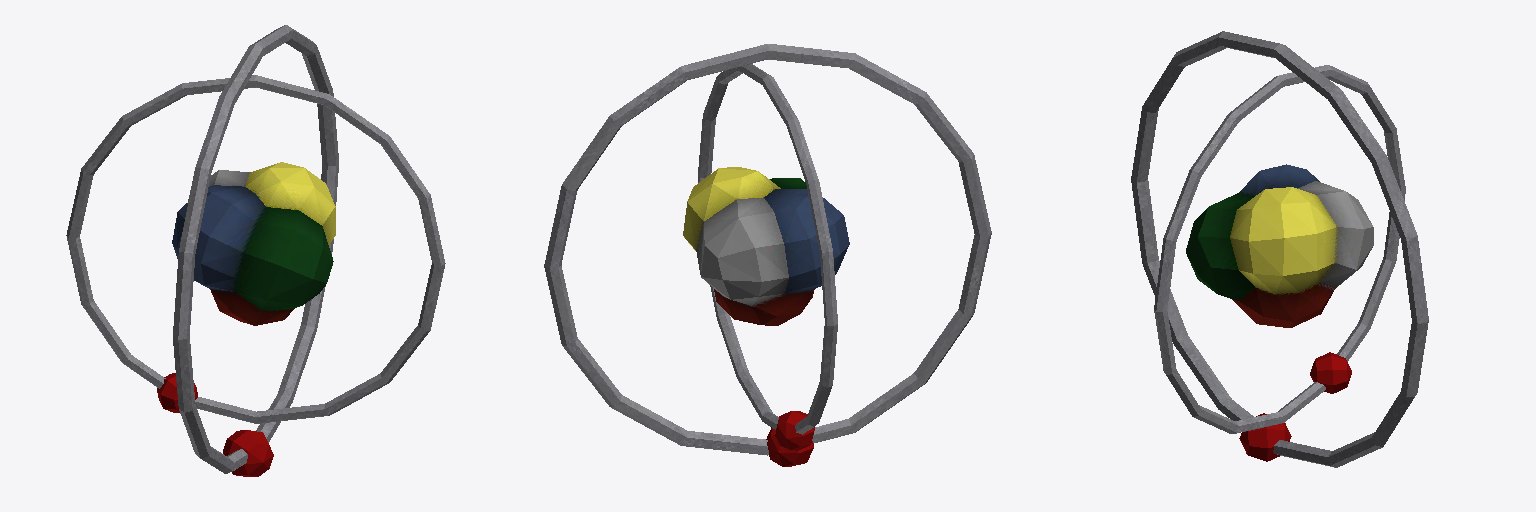
3 views of the same model, side by side, from view 1: azimuth 30°, elevation 25°; view 2: azimuth 150°, elevation 25°; view 3: azimuth 270°, elevation 25° (orthographic).
Parts seen in each view (by area): view 1: unwrapped2, Object09, Object10, Object12, Object11; view 2: Object09, unwrapped2, Object10, Object11, Object12; view 3: unwrapped2, Object09, Object10, Object12, Object11.
Boxes of the visible parts, <box> form: unwrapped2: <box>172,162,335,325</box>; Object09: <box>173,25,338,473</box>; Object10: <box>66,75,445,423</box>; Object12: <box>223,430,273,476</box>; Object11: <box>157,373,197,412</box>; Object09: <box>544,44,991,455</box>; unwrapped2: <box>683,167,849,325</box>; Object10: <box>698,64,837,434</box>; Object11: <box>775,411,814,450</box>; Object12: <box>766,427,813,466</box>; unwrapped2: <box>1186,164,1373,327</box>; Object09: <box>1131,31,1428,467</box>; Object10: <box>1154,65,1405,433</box>; Object12: <box>1239,413,1291,461</box>; Object11: <box>1310,352,1351,393</box>.
Size of the model in its own units: 27.27 by 36.42 by 23.15.
Materials: 1 (1 with a texture image).